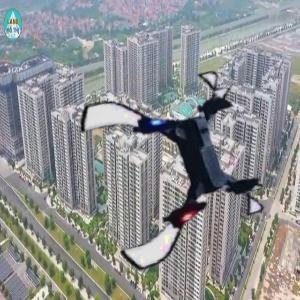drone: (84, 82, 264, 262)
